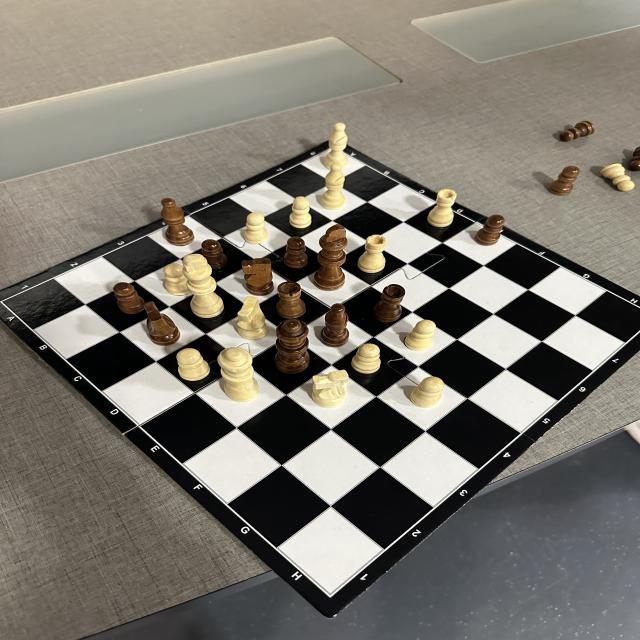Black-Bishop: (160, 198, 194, 246), (320, 303, 350, 347)
Black-King: (313, 224, 348, 291)
Black-Knight: (143, 301, 181, 346), (242, 257, 274, 296)
Black-Pawn: (113, 282, 146, 314), (474, 214, 505, 246), (548, 166, 580, 196), (558, 120, 596, 142), (283, 236, 309, 268), (201, 239, 228, 269), (628, 146, 640, 172)
Black-Queen: (274, 319, 310, 374)
Black-Rook: (372, 284, 406, 323), (275, 281, 307, 319)
White-Bishop: (320, 162, 346, 210), (324, 123, 348, 170)
White-King: (182, 254, 225, 318)
White-Knight: (312, 370, 349, 408), (237, 296, 268, 340)
White-Pawn: (176, 348, 211, 381), (410, 376, 444, 408), (600, 162, 636, 192), (404, 320, 437, 350), (351, 343, 381, 374), (163, 263, 190, 296), (244, 212, 269, 244), (289, 196, 312, 228)
White-Queen: (217, 347, 260, 402)
White-Rook: (357, 234, 386, 274), (427, 189, 457, 227)
